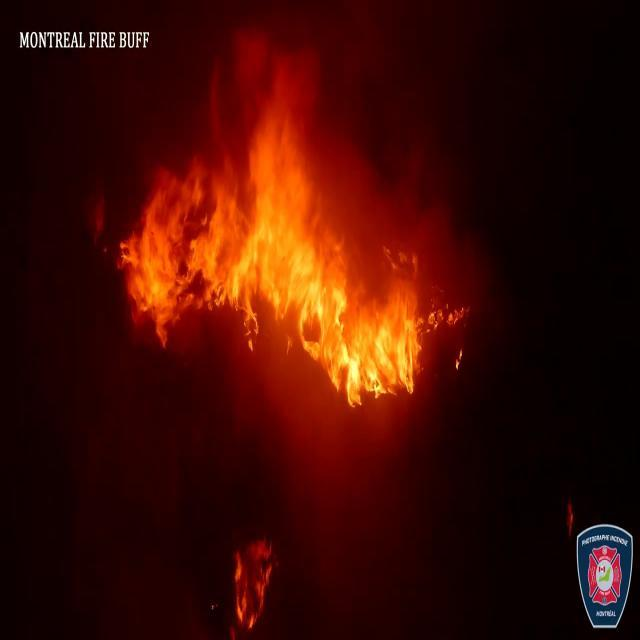Fire: (111, 21, 453, 409), (228, 536, 278, 636)
